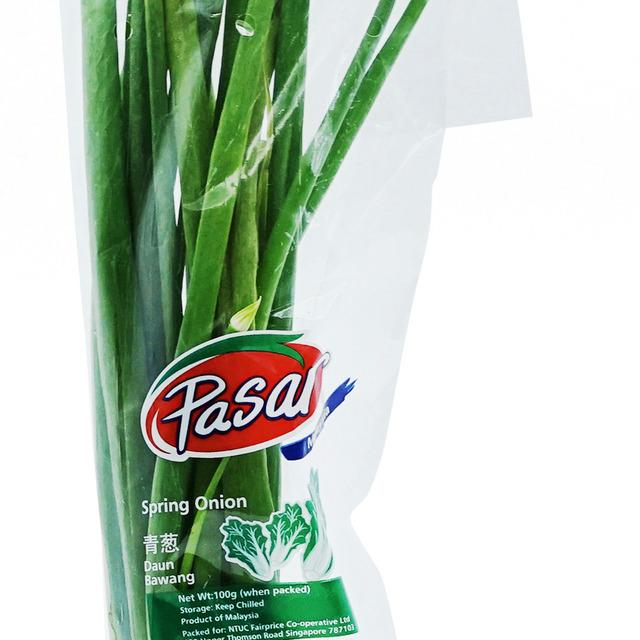green_onion: (56, 0, 464, 640)
